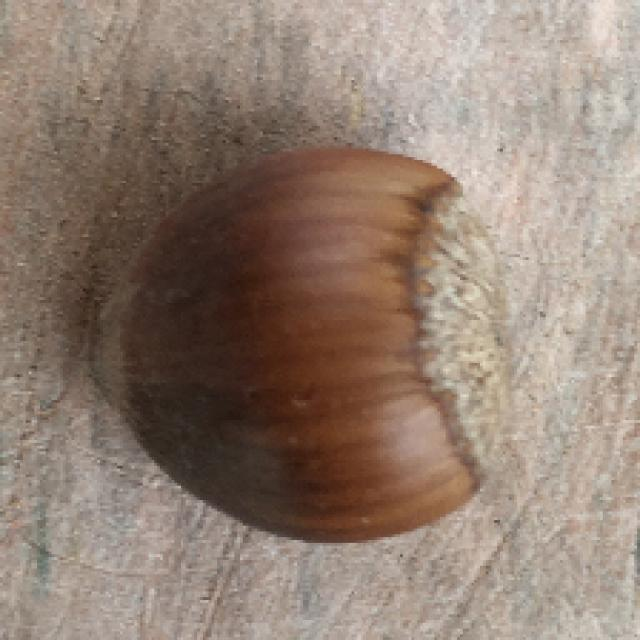damagedHazelnut: (92, 141, 526, 543)
